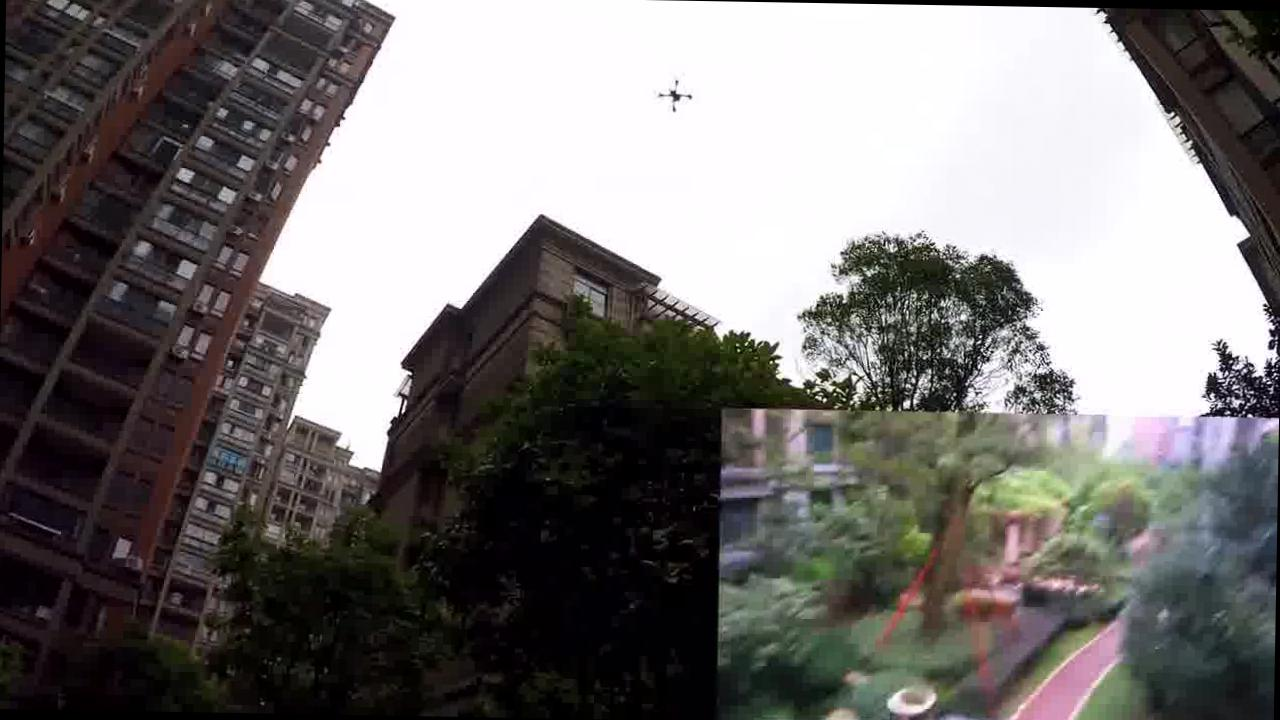drone: (631, 44, 696, 117)
